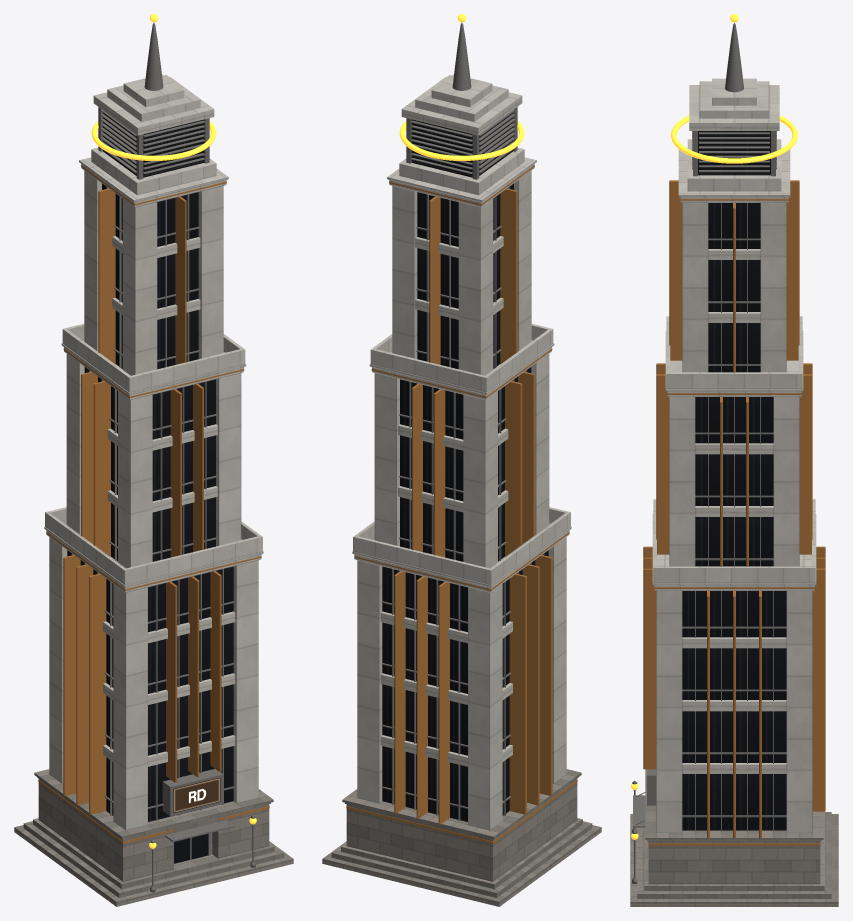
The model's file is s15-romanbridge-dao.glb.
3 views of the same model, side by side, from view 1: azimuth 30°, elevation 25°; view 2: azimuth 150°, elevation 25°; view 3: azimuth 270°, elevation 25° (orthographic).
Visible parts, largest first — view 1: Landmark · RomanBridge DAO (Series 15); view 2: Landmark · RomanBridge DAO (Series 15); view 3: Landmark · RomanBridge DAO (Series 15).
Boxes of the visible parts, <box> form: Landmark · RomanBridge DAO (Series 15): <box>14,14,293,906</box>; Landmark · RomanBridge DAO (Series 15): <box>322,14,601,906</box>; Landmark · RomanBridge DAO (Series 15): <box>630,14,838,906</box>.
Size of the model in its own units: 12 by 54 by 12.
Materials: 7 (4 with a texture image).
